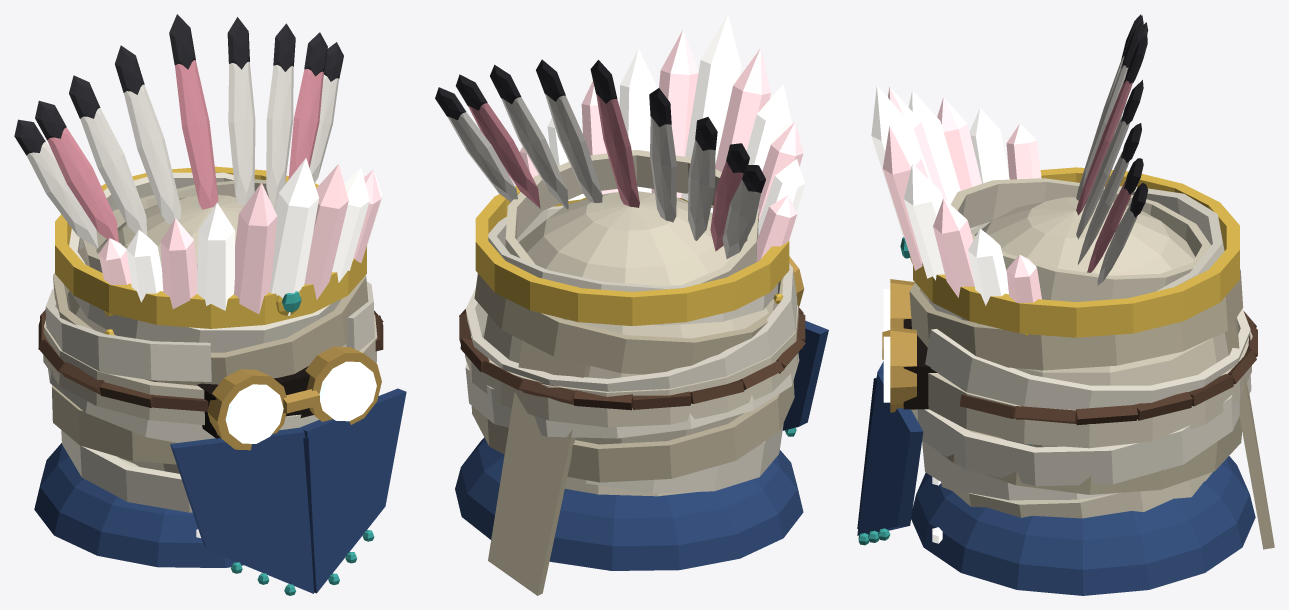
File: nomad_queen_headdress.glb
3 renders of one model, left to right at view 1: azimuth 30°, elevation 25°; view 2: azimuth 150°, elevation 25°; view 3: azimuth 270°, elevation 25°, orthographic. The views are drawn at different scales.
Parts seen in each view (by area): view 1: nomad_queen_headdress; view 2: nomad_queen_headdress; view 3: nomad_queen_headdress.
Part boxes in pixels (bbox=[...]): nomad_queen_headdress: bbox=[14, 14, 406, 595]; nomad_queen_headdress: bbox=[435, 14, 828, 595]; nomad_queen_headdress: bbox=[857, 14, 1274, 595].
Size of the model in its own units: 1.2 by 1.71 by 1.26.
